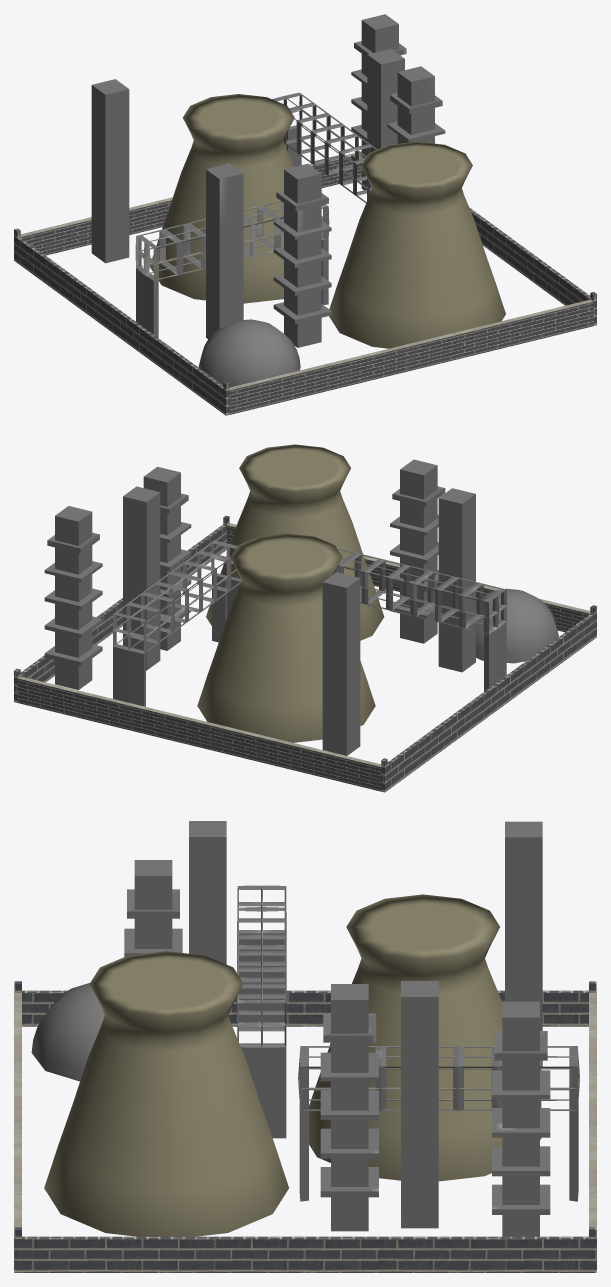
Rendered from FactoryOneTex.fbx.
3 renders of one model, top to bottom at view 1: azimuth 30°, elevation 25°; view 2: azimuth 150°, elevation 25°; view 3: azimuth 270°, elevation 25°, orthographic. The views are drawn at different scales.
Visible parts, largest first — view 1: factory.002, factory.001; view 2: factory.002, factory.001; view 3: factory.002, factory.001.
Boxes of the visible parts, x1,y1,x2,y2 form: factory.002: (91,14,505,387); factory.001: (14,151,596,415); factory.002: (44,444,558,755); factory.001: (14,515,596,792); factory.002: (31,821,579,1236); factory.001: (14,981,596,1272).
Size of the model in its own units: 18478 by 8376 by 18308.
2 materials, 2 textured.
